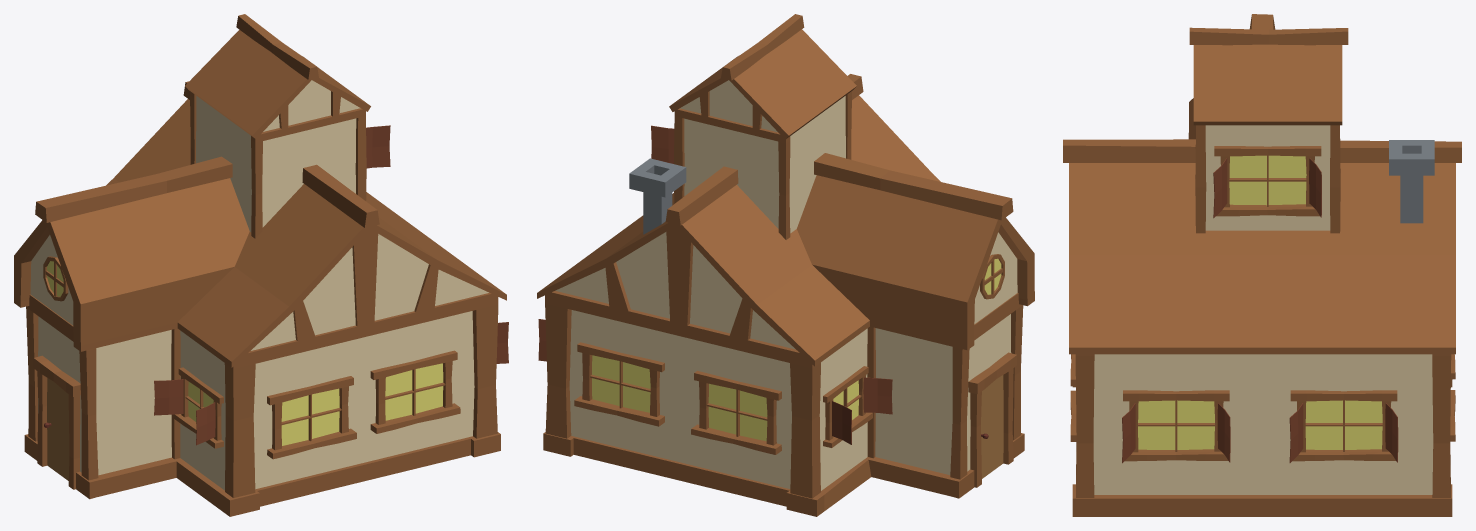
Rendered from House_06.fbx.
The picture shows the model from 3 angles, left to right: view 1: azimuth 30°, elevation 25°; view 2: azimuth 150°, elevation 25°; view 3: azimuth 270°, elevation 25°; orthographic projection. The views are drawn at different scales.
Visible parts, largest first — view 1: House_06; view 2: House_06; view 3: House_06.
Part boxes in pixels (left/top/right/bottom): House_06: left=14, top=14, right=508, bottom=516; House_06: left=537, top=14, right=1034, bottom=516; House_06: left=1063, top=14, right=1461, bottom=516.
Size of the model in its own units: 932 by 831 by 723.
